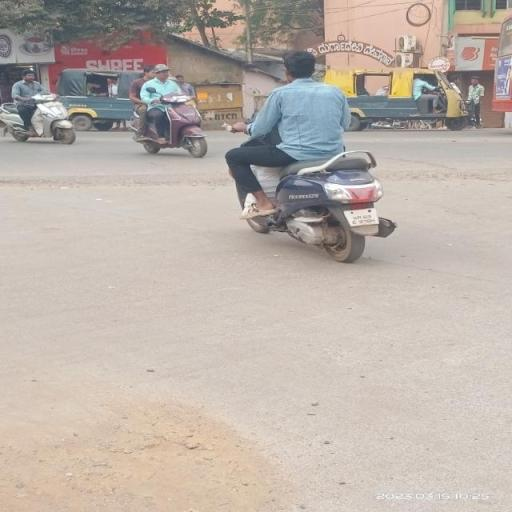bike: (220, 49, 398, 264)
withouthelmet: (285, 51, 316, 79)
